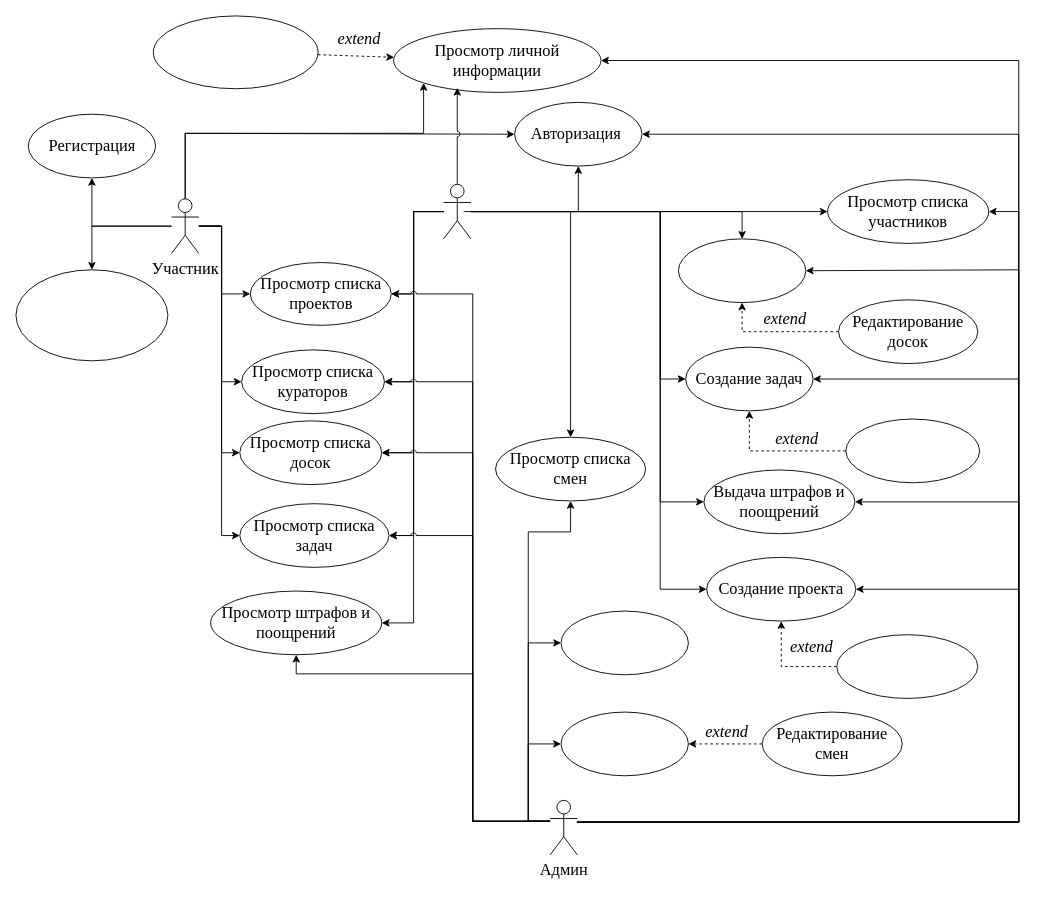
The diagram is 1042 pixels wide and 897 high, and some of its shapes have lost their labels. The centre of each missing label's shape, as x and y in pixels:
Куратор: the point at 457,211
Просмотр своих штрафов и поощрений: the point at 91,315
Редактирование задач: the point at 912,450
Редактирование личной информации: the point at 235,52
Редактирование проекта: the point at 907,666
Создание досок: the point at 741,270
Создание куратора: the point at 624,642
Создание смен: the point at 624,743
